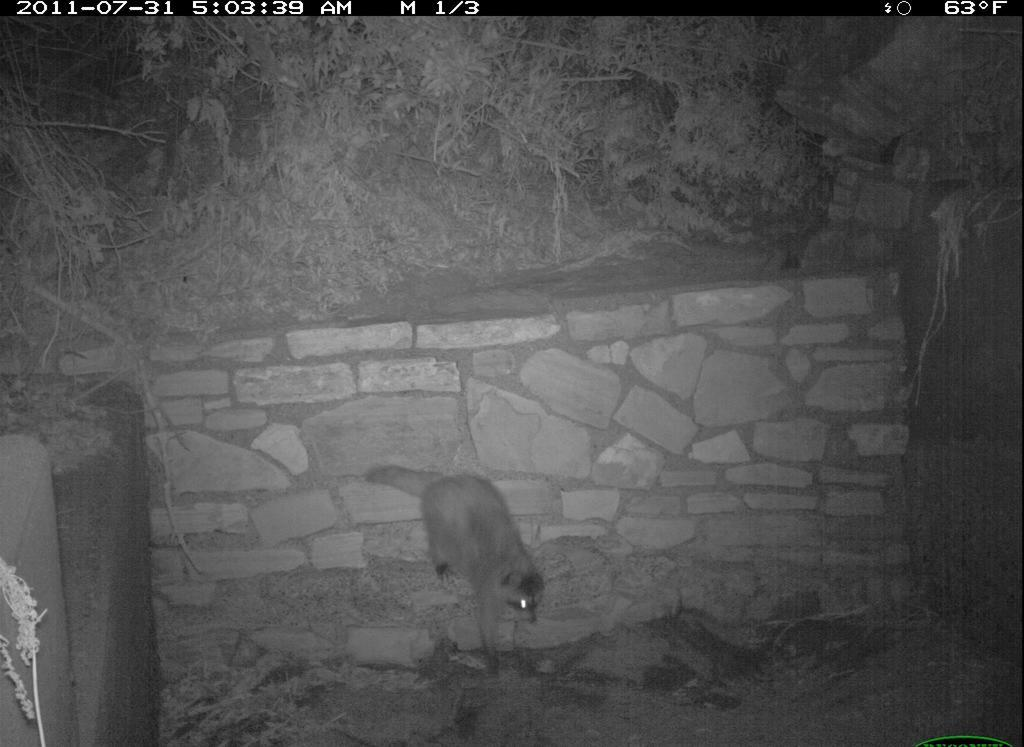raccoon: (351, 455, 561, 687)
